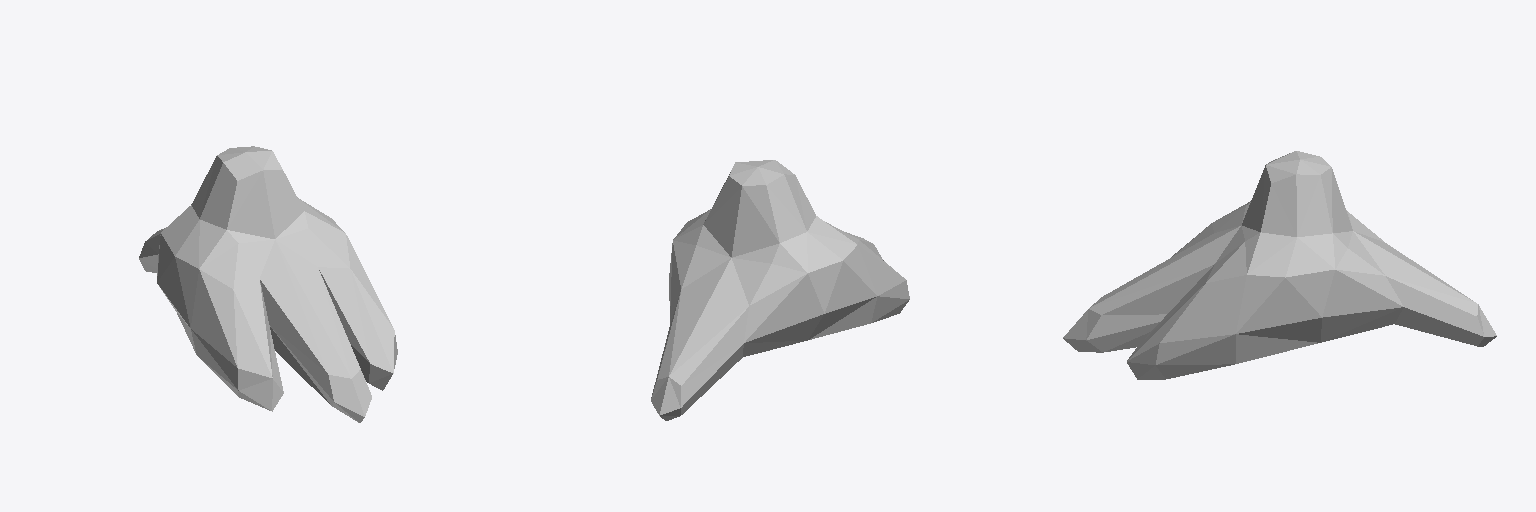
The model's file is bird foot.obj.
The picture shows the model from 3 angles: view 1: azimuth 30°, elevation 25°; view 2: azimuth 150°, elevation 25°; view 3: azimuth 270°, elevation 25°; orthographic projection.
Parts seen in each view (by area): view 1: Cube.002_Cube.001; view 2: Cube.002_Cube.001; view 3: Cube.002_Cube.001.
Boxes of the visible parts, x1,y1,x2,y2 form: Cube.002_Cube.001: [139, 146, 397, 422]; Cube.002_Cube.001: [651, 160, 909, 420]; Cube.002_Cube.001: [1063, 151, 1496, 379].
Size of the model in its own units: 0.3876 by 0.4087 by 0.8346.